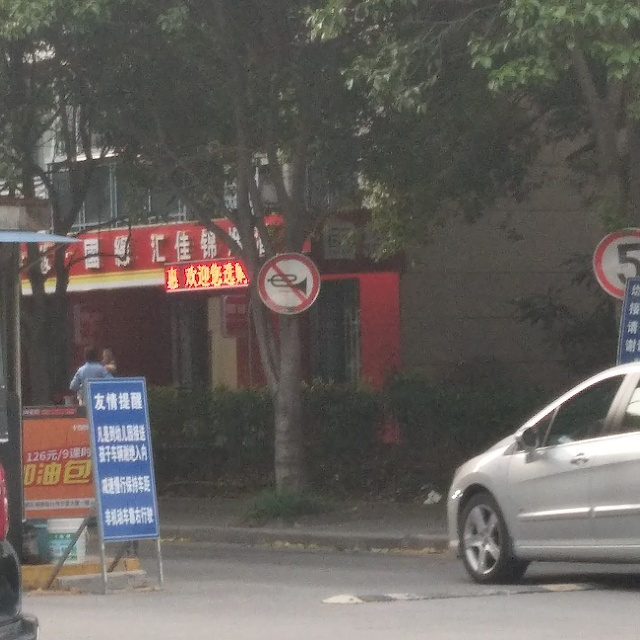nohonk: (257, 251, 320, 317)
